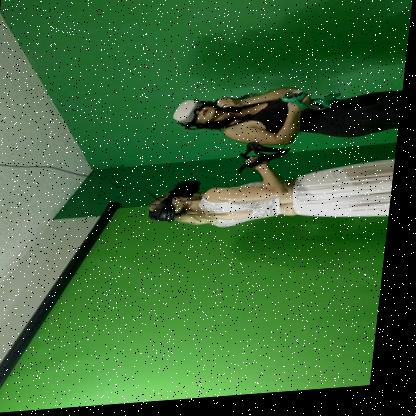streamer: (146, 152, 401, 238), (169, 85, 406, 157)
